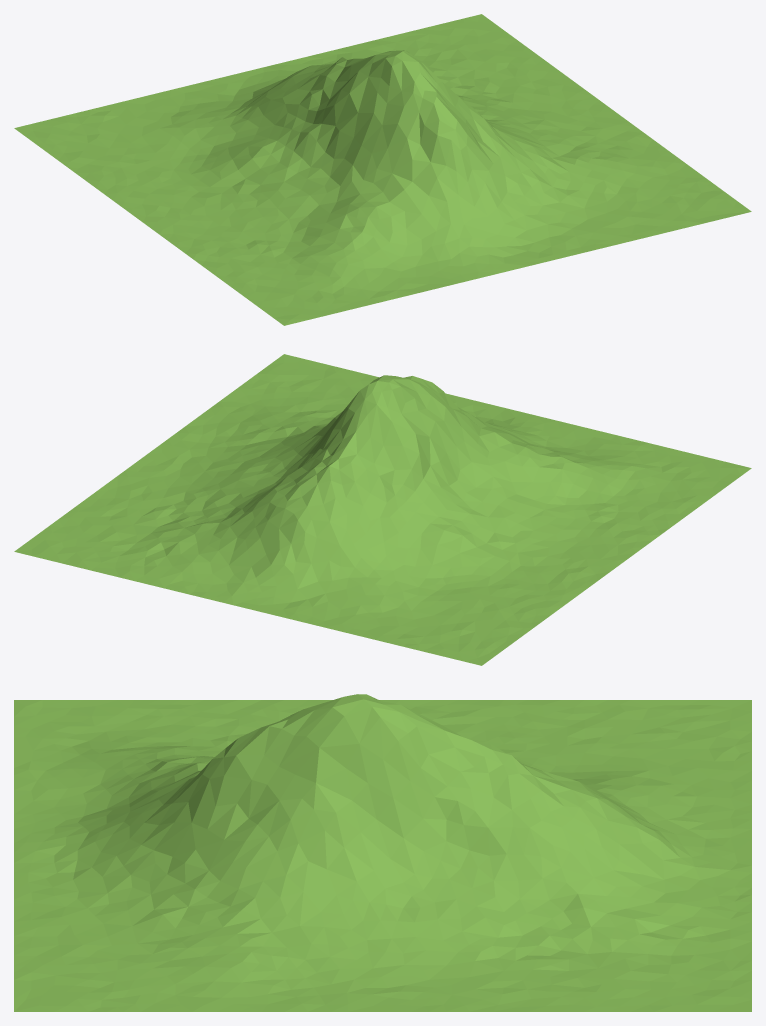
File: MT_Terrain_L_a_38_LOD.fbx
The picture shows the model from 3 angles, top to bottom: view 1: azimuth 30°, elevation 25°; view 2: azimuth 150°, elevation 25°; view 3: azimuth 270°, elevation 25°; orthographic projection. The views are drawn at different scales.
Visible parts, largest first — view 1: MT_Terrain_L_a_38_LOD0; view 2: MT_Terrain_L_a_38_LOD0; view 3: MT_Terrain_L_a_38_LOD0.
Boxes of the visible parts, x1,y1,x2,y2 form: MT_Terrain_L_a_38_LOD0: (14, 14, 751, 325); MT_Terrain_L_a_38_LOD0: (14, 354, 751, 665); MT_Terrain_L_a_38_LOD0: (14, 694, 751, 1011).
Size of what is drawn, in the model's own units: 10000 by 2475 by 10000.
